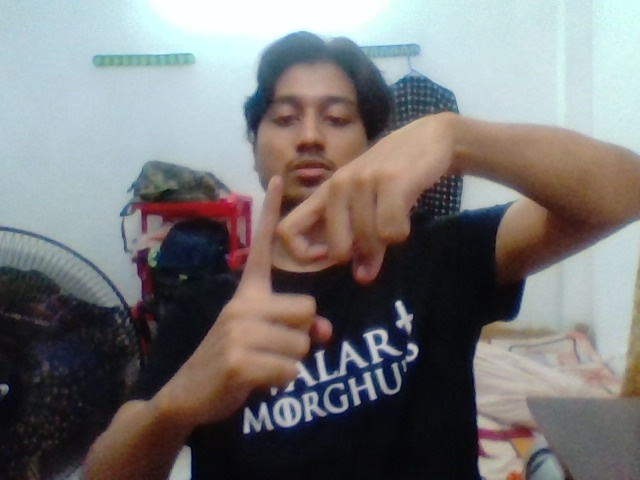K: (231, 157, 365, 384)
